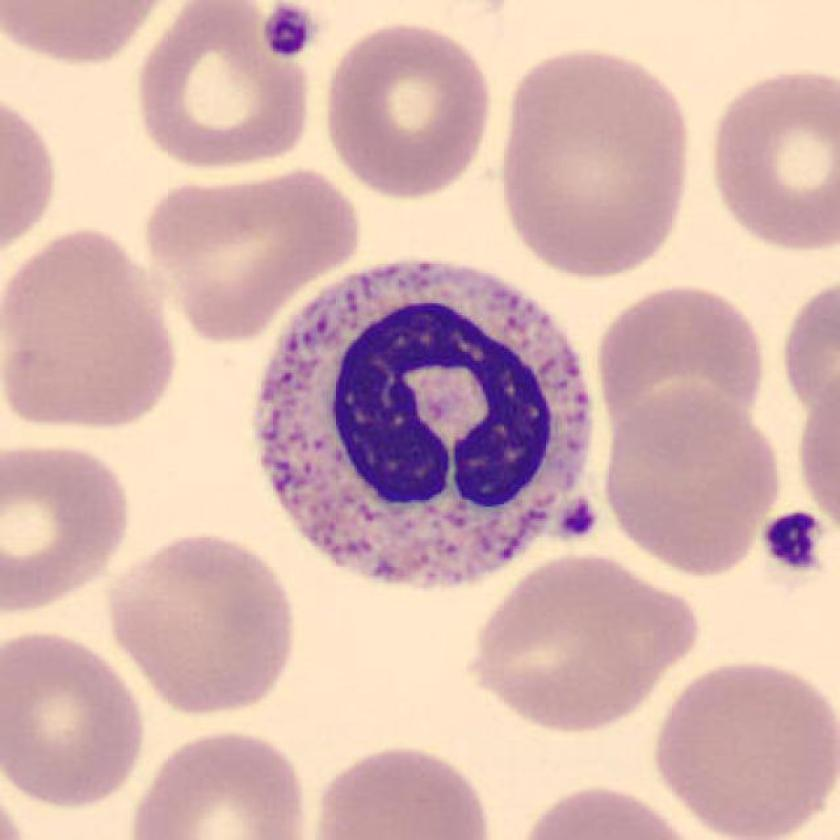neutrophil: (254, 262, 589, 588)
